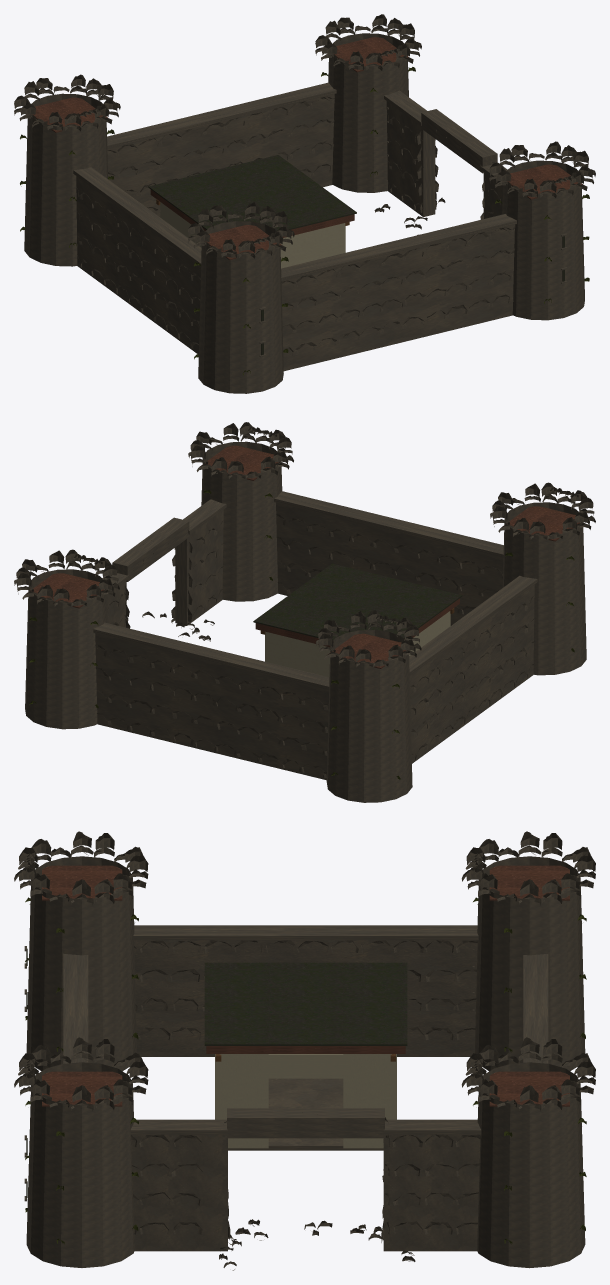
Rendered from castle_gatehouse.glb.
3 renders of one model, top to bottom at view 1: azimuth 30°, elevation 25°; view 2: azimuth 150°, elevation 25°; view 3: azimuth 270°, elevation 25°, orthographic. The views are drawn at different scales.
Visible parts, largest first — view 1: broken_fieldstone, char_and_rubber, oxide_sheet_metal, faded_facade, lichened_edges; view 2: broken_fieldstone, char_and_rubber, oxide_sheet_metal, faded_facade; view 3: broken_fieldstone, char_and_rubber, oxide_sheet_metal, faded_facade, lichened_edges.
Part boxes in pixels (bbox=[...]): broken_fieldstone: bbox=[14, 14, 595, 393]; char_and_rubber: bbox=[148, 155, 564, 355]; oxide_sheet_metal: bbox=[30, 37, 582, 260]; faded_facade: bbox=[160, 202, 345, 268]; lichened_edges: bbox=[20, 67, 589, 375]; broken_fieldstone: bbox=[14, 422, 595, 802]; char_and_rubber: bbox=[253, 563, 462, 640]; oxide_sheet_metal: bbox=[26, 445, 579, 668]; faded_facade: bbox=[265, 611, 450, 677]; broken_fieldstone: bbox=[14, 831, 595, 1270]; char_and_rubber: bbox=[26, 948, 407, 1198]; oxide_sheet_metal: bbox=[42, 865, 569, 1106]; faded_facade: bbox=[215, 1054, 396, 1148]; lichened_edges: bbox=[25, 897, 586, 1244].
Bounding box in the file's own units: 18.96 × 7.13 × 18.85.
6 materials, 6 textured.
